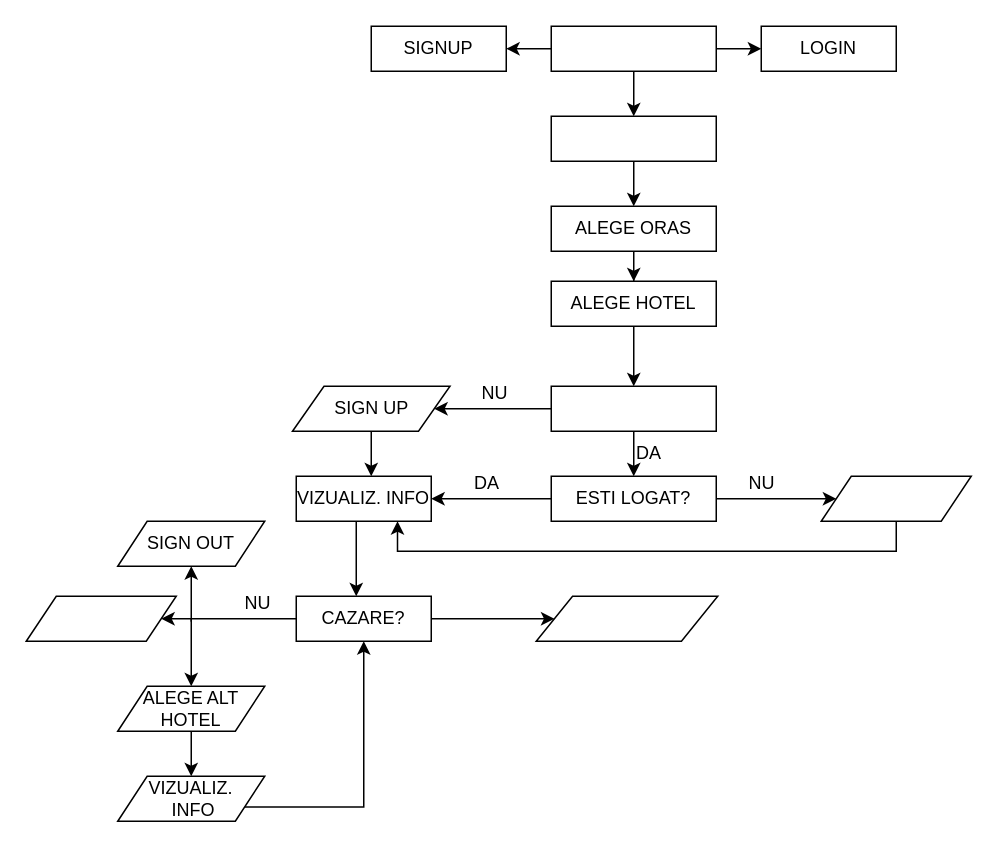
Image size: 998x848. Some labels were removed from this diagram. Here are the shapes that lost their labels. From the top down, the box of each, then its label:
(550, 25, 716, 71): START
(550, 115, 716, 161): ALEGE TARA
(550, 385, 716, 431): EXISTA CONT?
(820, 475, 971, 521): LOG IN
(25, 595, 176, 641): FAVORITE
(535, 595, 718, 641): FORMULAR CAZARE
